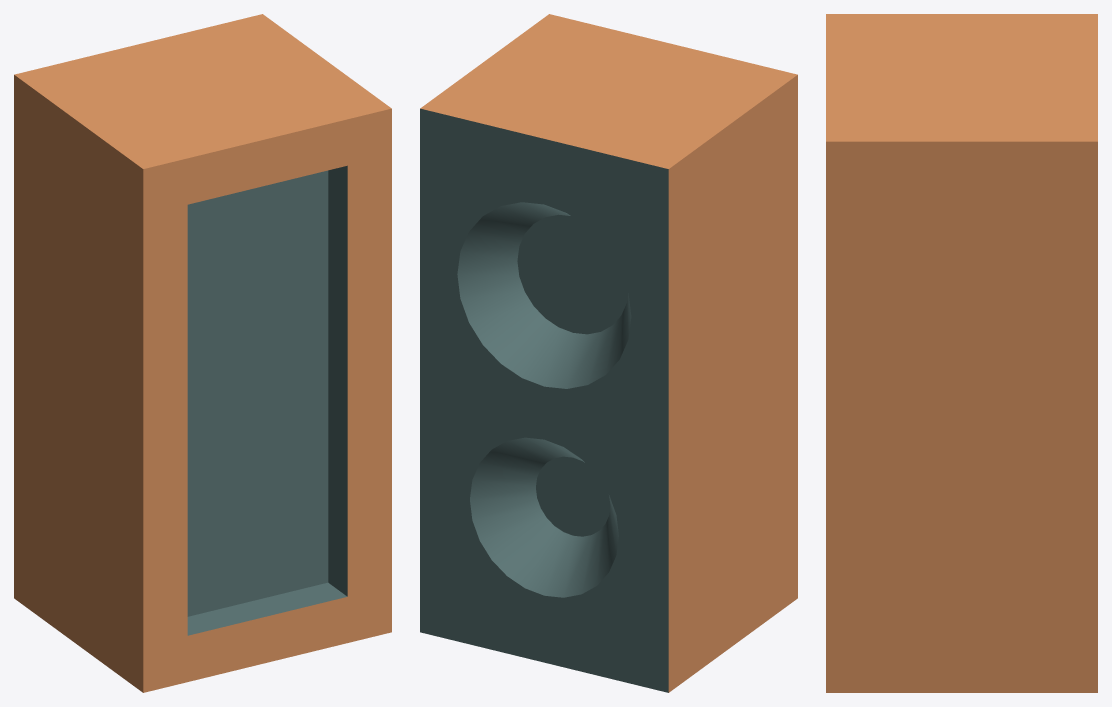
Rendered from Speaker Small.glb.
The picture shows the model from 3 angles, left to right: view 1: azimuth 30°, elevation 25°; view 2: azimuth 150°, elevation 25°; view 3: azimuth 270°, elevation 25°; orthographic projection. The views are drawn at different scales.
Parts seen in each view (by area): view 1: speakerSmall; view 2: speakerSmall; view 3: speakerSmall.
Boxes of the visible parts, x1,y1,x2,y2 form: speakerSmall: [14, 14, 391, 692]; speakerSmall: [420, 14, 797, 692]; speakerSmall: [826, 14, 1097, 692].
Size of the model in its own units: 0.148 by 0.298 by 0.1332.
